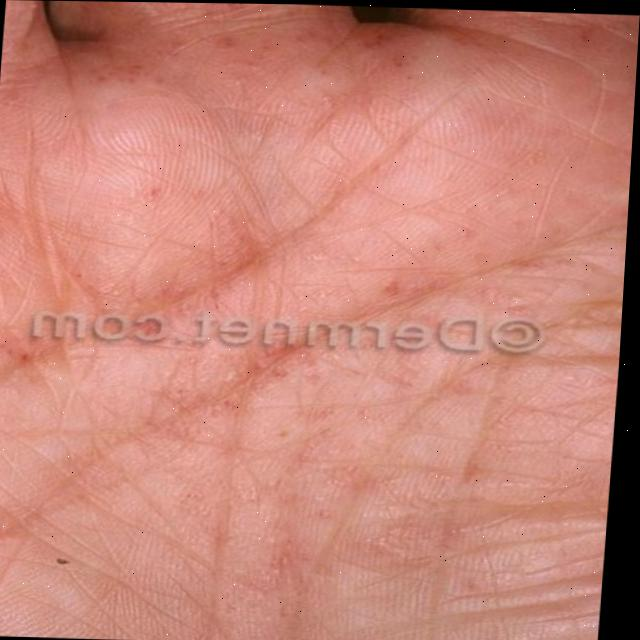Eczema: (93, 355, 491, 640)
